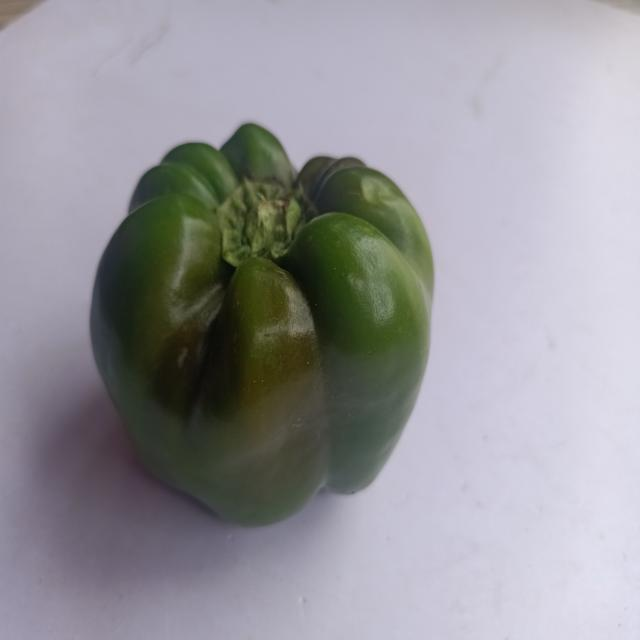Capsicum: (77, 105, 459, 538)
